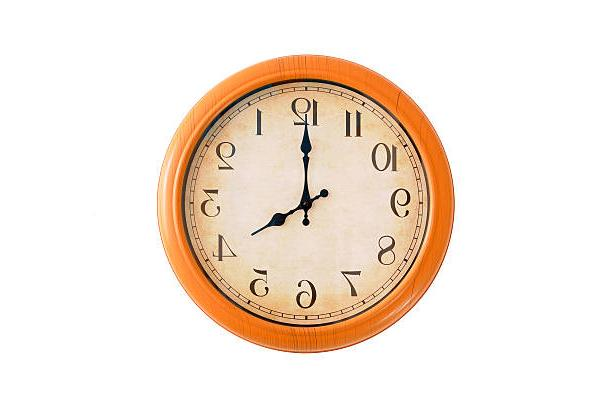clock: (156, 54, 457, 354)
